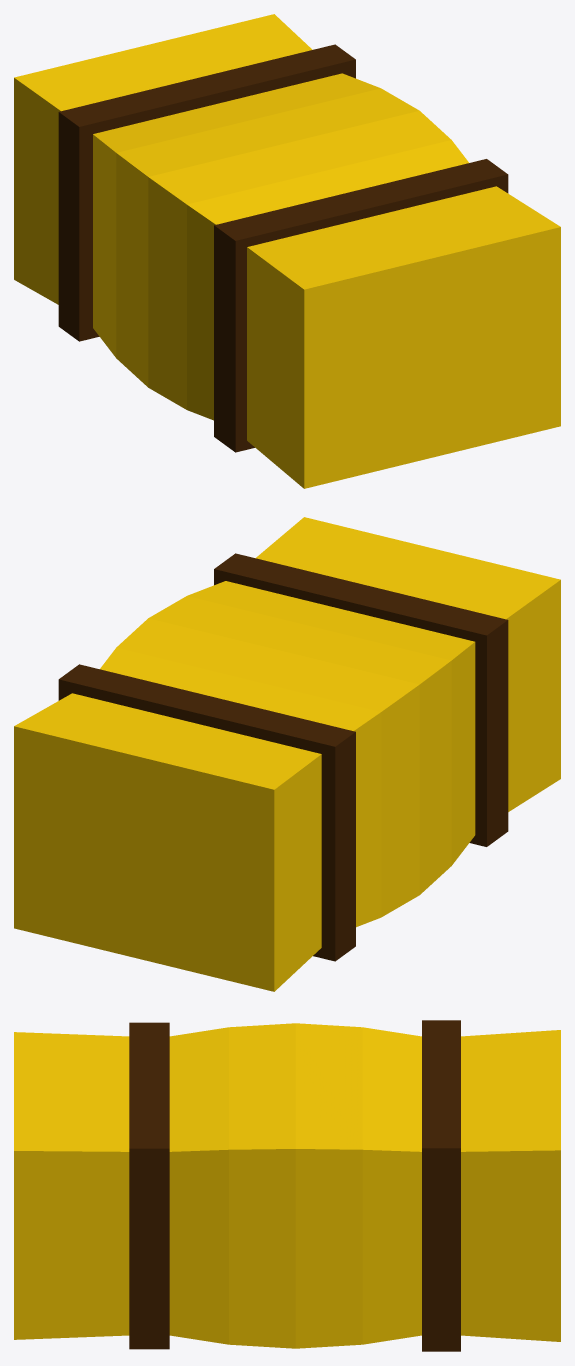
Rendered from barn_asset_2.fbx.
The picture shows the model from 3 angles, top to bottom: view 1: azimuth 30°, elevation 25°; view 2: azimuth 150°, elevation 25°; view 3: azimuth 270°, elevation 25°; orthographic projection. The views are drawn at different scales.
Visible parts, largest first — view 1: Cube; view 2: Cube; view 3: Cube.
Part boxes in pixels (left/top/right/bottom): Cube: left=14, top=14, right=560, bottom=488; Cube: left=14, top=517, right=560, bottom=991; Cube: left=14, top=1020, right=560, bottom=1351.
Bounding box in the file's own units: 242 × 180 × 438.
